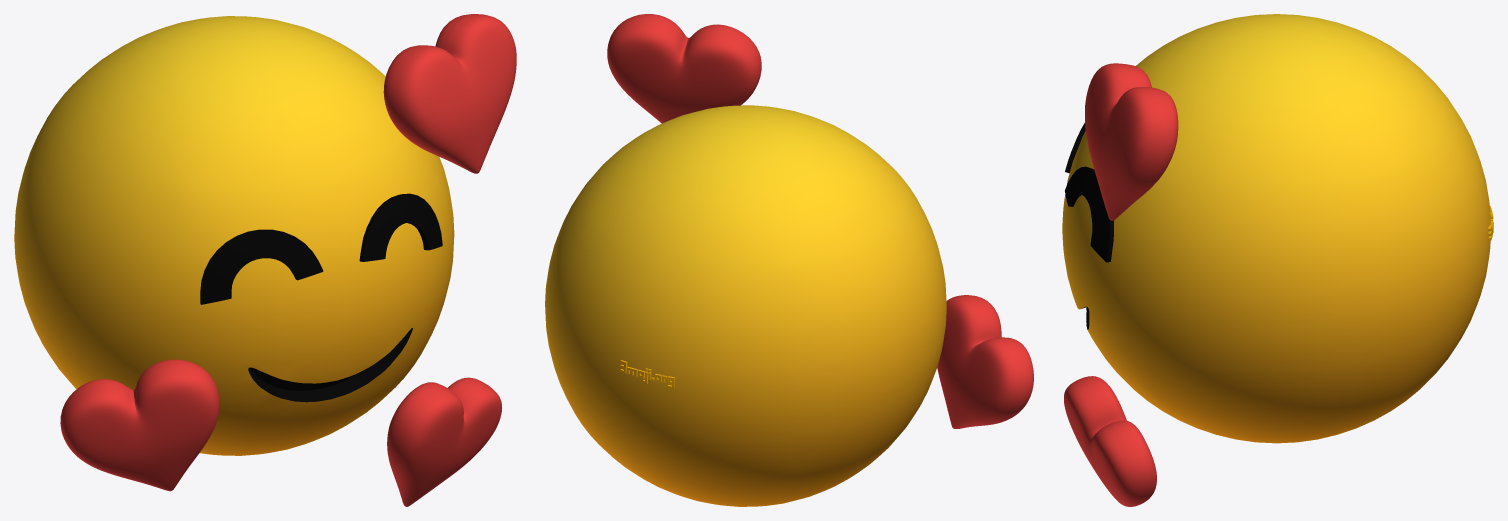
File: smiling_face_with_hearts.glb
3 views of the same model, side by side, from view 1: azimuth 30°, elevation 25°; view 2: azimuth 150°, elevation 25°; view 3: azimuth 270°, elevation 25° (orthographic). The views are drawn at different scales.
Visible parts, largest first — view 1: Smiling Face with Hearts; view 2: Smiling Face with Hearts; view 3: Smiling Face with Hearts.
Boxes of the visible parts, <box> form: Smiling Face with Hearts: <box>14,14,516,506</box>; Smiling Face with Hearts: <box>545,14,1033,506</box>; Smiling Face with Hearts: <box>1062,14,1493,506</box>.
Size of the model in its own units: 2.02 by 1.96 by 1.7.
1 material, 1 textured.
